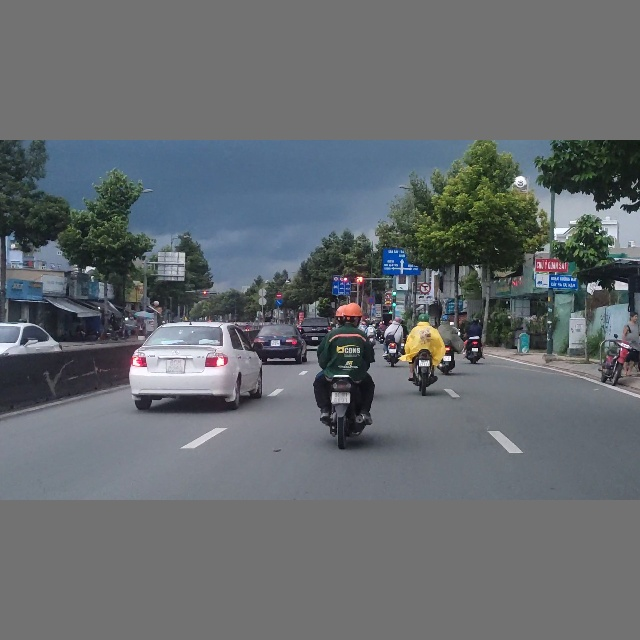P.102: (276, 293, 283, 299)
P.137: (419, 283, 431, 294)
R.302a: (276, 300, 282, 306)
R.415a: (332, 281, 351, 295)
